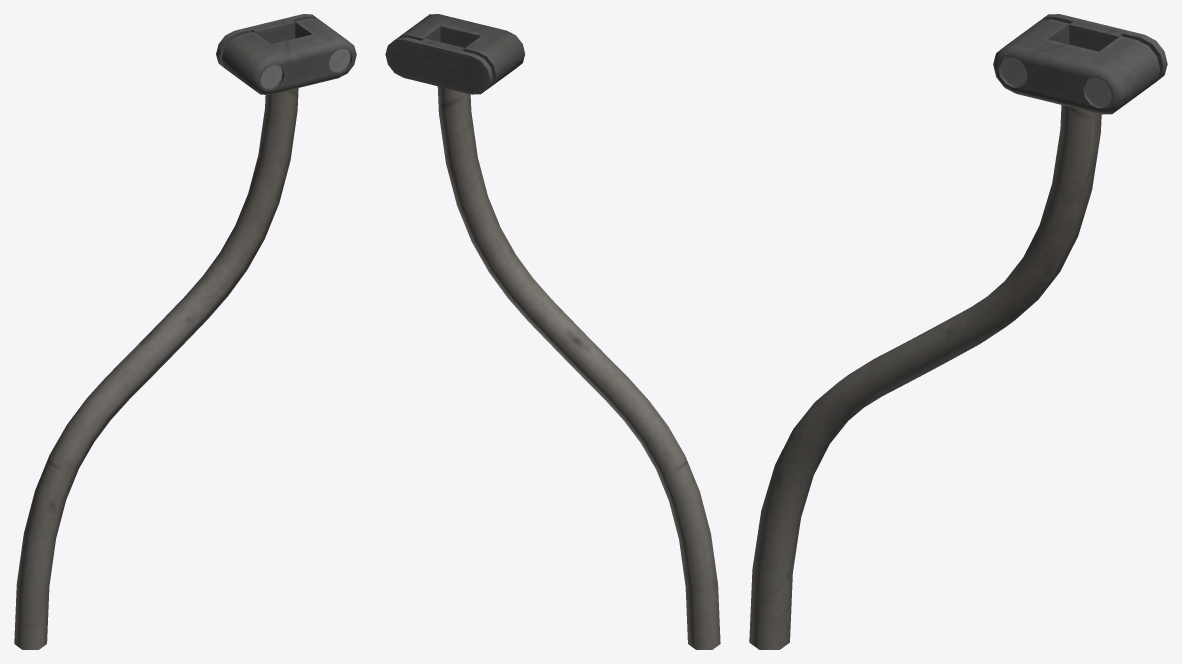
The model's file is cable_scurve_2.glb.
3 views of the same model, side by side, from view 1: azimuth 30°, elevation 25°; view 2: azimuth 150°, elevation 25°; view 3: azimuth 330°, elevation 25° (orthographic). The views are drawn at different scales.
Parts seen in each view (by area): view 1: cable_scurve_2.001; view 2: cable_scurve_2.001; view 3: cable_scurve_2.001.
Part boxes in pixels (box(x1,y1,x2,y2)): cable_scurve_2.001: box(14, 14, 356, 649); cable_scurve_2.001: box(385, 14, 720, 649); cable_scurve_2.001: box(749, 14, 1167, 649).
Size of the model in its own units: 0.1257 by 0.2073 by 0.0259.
1 material, 1 textured.
